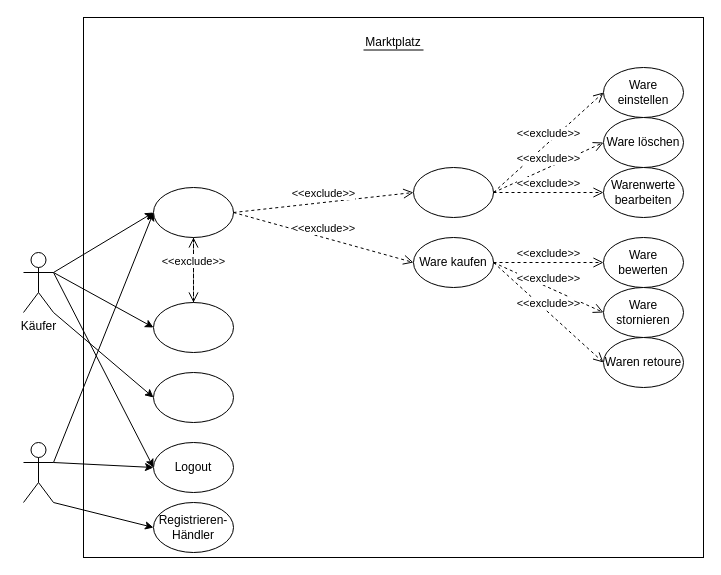
This 721x575 diagram has some shape labels left out. The shapes that lost their labels are listed below. From the top down, each one's centre as x and y in pixels, then its label:
pixel 193 212: Login
pixel 453 192: Ware verwalten
pixel 193 327: Warensuche
pixel 193 397: Registrieren- Käufer
pixel 38 472: Händler
